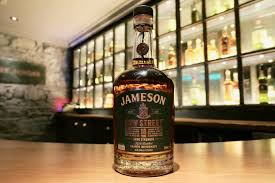Jameson: (110, 4, 177, 179)
